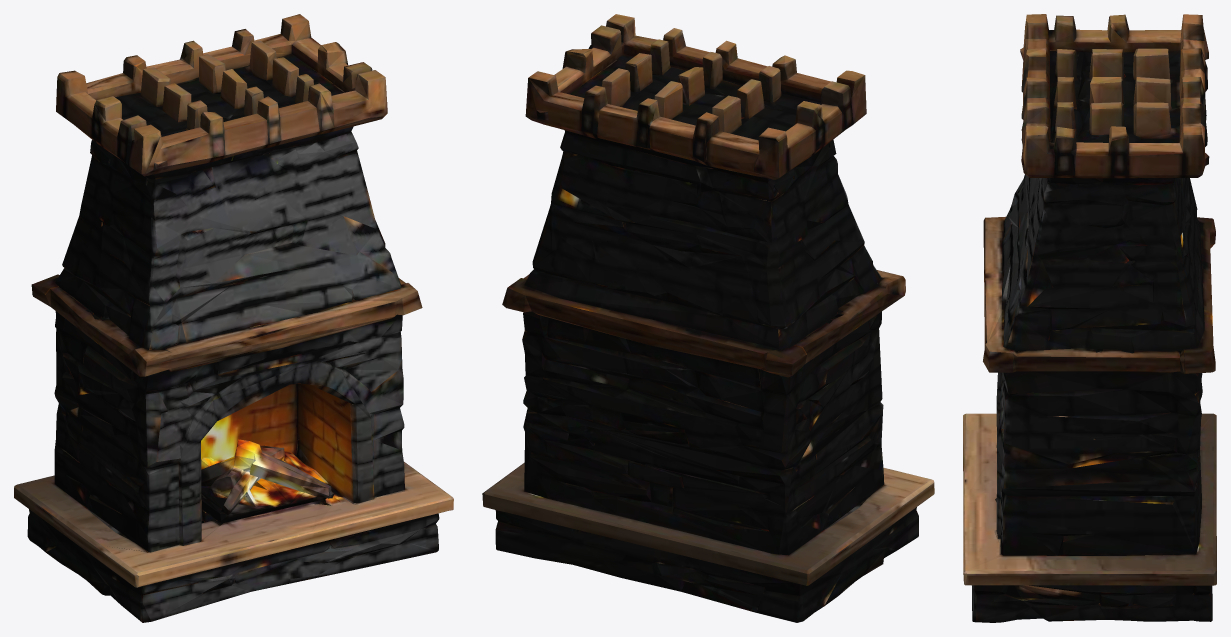
File: ogre_forge_01.glb
The picture shows the model from 3 angles, left to right: view 1: azimuth 30°, elevation 25°; view 2: azimuth 150°, elevation 25°; view 3: azimuth 270°, elevation 25°; orthographic projection. The views are drawn at different scales.
Parts seen in each view (by area): view 1: geometry_0; view 2: geometry_0; view 3: geometry_0.
Part boxes in pixels (x1,y1,x2,y2): geometry_0: (14,14,453,622); geometry_0: (482,14,934,622); geometry_0: (963,14,1216,622).
Bounding box in the file's own units: 0.7194 × 0.9985 × 0.4838.
Materials: 1 (1 with a texture image).
